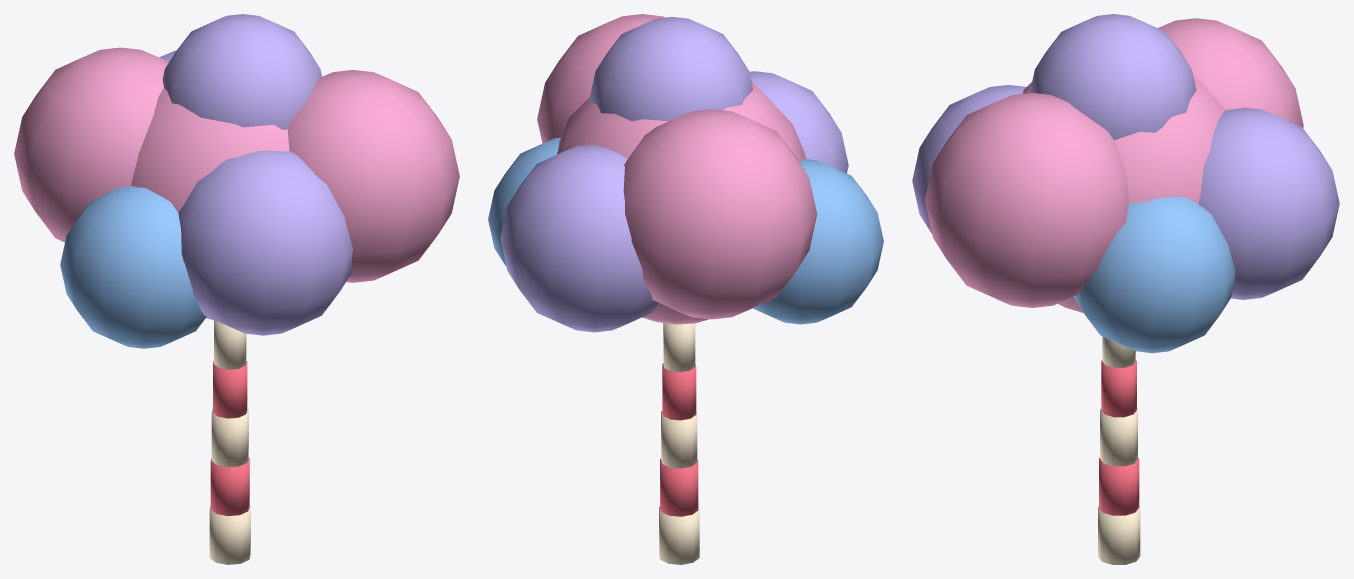
File: tree-cotton-candy.glb
3 views of the same model, side by side, from view 1: azimuth 30°, elevation 25°; view 2: azimuth 150°, elevation 25°; view 3: azimuth 270°, elevation 25° (orthographic). The views are drawn at different scales.
Visible parts, largest first — view 1: tree-cotton-candy; view 2: tree-cotton-candy; view 3: tree-cotton-candy.
Boxes of the visible parts, left/top/right/bottom form: tree-cotton-candy: left=14, top=14, right=459, bottom=564; tree-cotton-candy: left=488, top=14, right=883, bottom=564; tree-cotton-candy: left=912, top=14, right=1339, bottom=564.
Size of the model in its own units: 1.44 by 2.1 by 1.51.
Materials: 1 (1 with a texture image).
